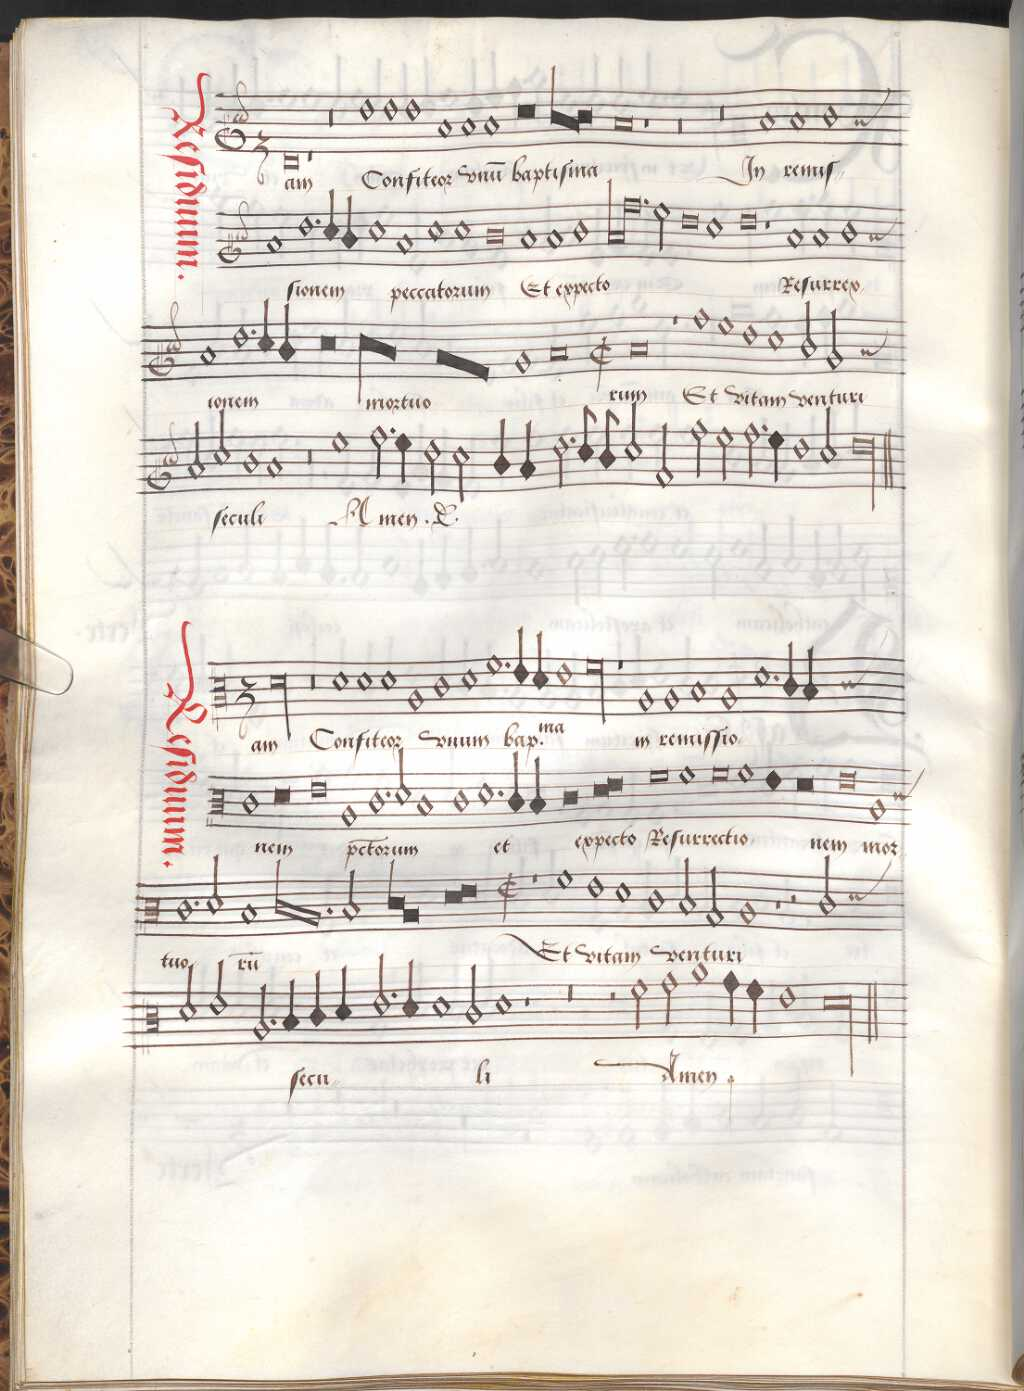barline: (879, 418, 898, 503)
breve rest: (300, 430, 316, 496)
fusa_6: (581, 396, 597, 471)
fusa_7: (599, 399, 618, 480)
g clef_9: (146, 411, 184, 500)
longa_5: (845, 426, 880, 512)
minim_10: (654, 413, 676, 497)
minim_3: (687, 411, 710, 484), (739, 416, 762, 484), (367, 420, 388, 486)
minim_4: (714, 418, 736, 488)
minim_5: (548, 426, 570, 494), (422, 435, 443, 503)
minim_6: (621, 396, 645, 472), (449, 432, 472, 507), (211, 406, 233, 472), (818, 401, 838, 471)
minim_8: (186, 414, 208, 488)
point: (564, 426, 580, 451), (383, 419, 398, 438), (755, 419, 770, 436)
semibreve_4: (326, 422, 352, 462)
semibreve_5: (791, 427, 814, 468)
semibreve_7: (240, 442, 262, 481)
semibreve_8: (262, 449, 286, 485)
semiminim_4: (765, 420, 787, 490), (395, 424, 415, 492)
semiminim_7: (491, 413, 510, 485)
semiminim_8: (517, 413, 540, 489)
